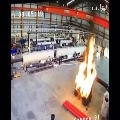fire: (75, 36, 97, 98)
